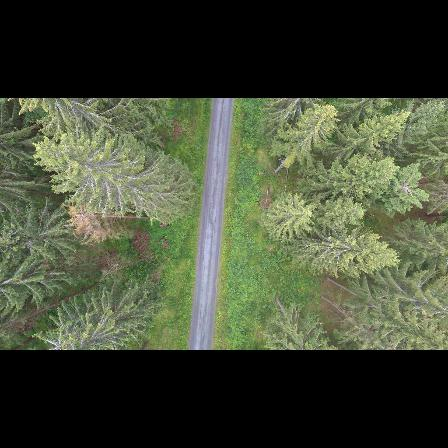Sick: (388, 168, 424, 206)
